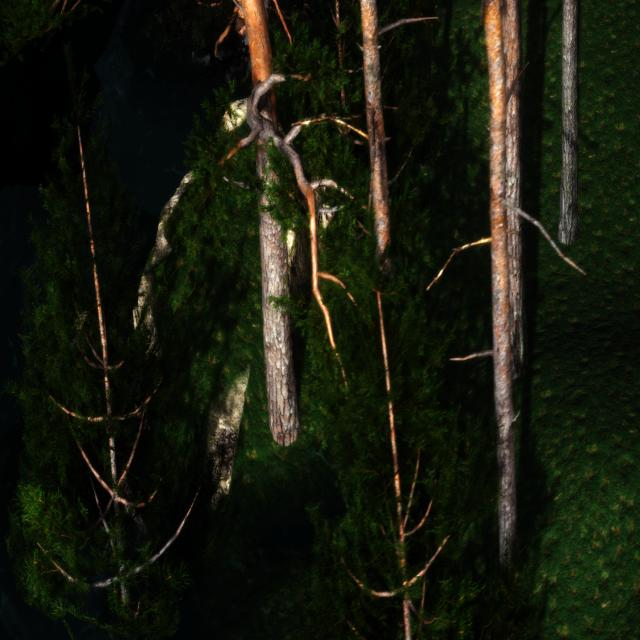Human: (192, 12, 254, 96)
